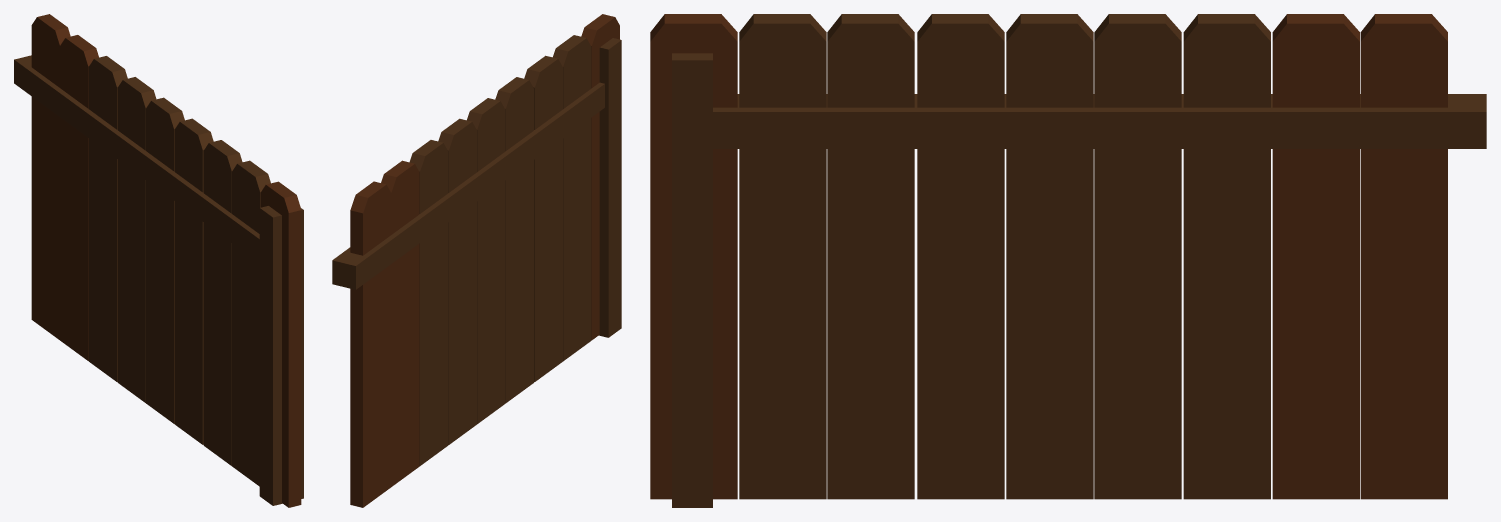
Rendered from fences.fbx.
The picture shows the model from 3 angles, left to right: view 1: azimuth 30°, elevation 25°; view 2: azimuth 150°, elevation 25°; view 3: azimuth 270°, elevation 25°; orthographic projection. The views are drawn at different scales.
Parts seen in each view (by area): view 1: Cube.003, Cube.002, Cube.001, Cube.004, Cube, Cube.005, Cube.006, Cube.007, Cube.010, Cube.009, Cube.008; view 2: Cube, Cube.002, Cube.006, Cube.003, Cube.005, Cube.001, Cube.007, Cube.004, Cube.009, Cube.010, Cube.008; view 3: Cube.003, Cube.004, Cube.005, Cube.006, Cube.007, Cube.001, Cube, Cube.002, Cube.009, Cube.008, Cube.010.
Part boxes in pixels (x1,y1,x2,y2): Cube.003: (174,118,213,444); Cube.002: (88,56,127,381); Cube.001: (60,35,98,360); Cube.004: (146,97,184,423); Cube: (31,14,70,339); Cube.005: (117,77,156,402); Cube.006: (203,140,242,465); Cube.007: (232,160,270,486); Cube.010: (259,206,303,505); Cube.009: (14,55,259,262); Cube.008: (260,181,301,507); Cube: (350,181,391,507); Cube.002: (409,140,448,465); Cube.006: (524,55,562,382); Cube.003: (495,77,533,403); Cube.005: (438,118,476,444); Cube.001: (381,160,419,486); Cube.007: (553,35,591,361); Cube.004: (467,98,505,424); Cube.009: (332,82,604,289); Cube.010: (599,38,621,337); Cube.008: (581,14,619,340); Cube.003: (917,14,1004,499); Cube.004: (1006,14,1093,499); Cube.005: (1094,14,1181,499); Cube.006: (827,14,914,499); Cube.007: (739,14,826,499); Cube.001: (1272,14,1359,499); Cube: (1360,14,1447,499); Cube.002: (1183,14,1270,499); Cube.009: (713,94,1486,148); Cube.008: (650,14,737,499); Cube.010: (672,53,712,507).
Size of the model in its own units: 21.1 by 201 by 319.
